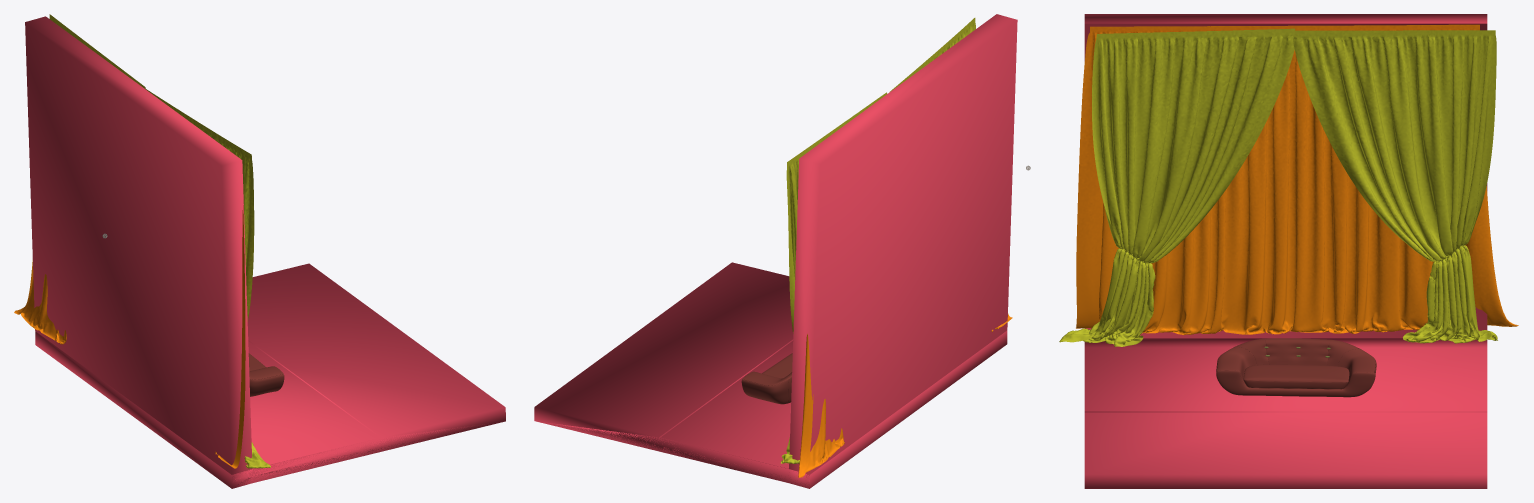
The picture shows the model from 3 angles, left to right: view 1: azimuth 30°, elevation 25°; view 2: azimuth 150°, elevation 25°; view 3: azimuth 270°, elevation 25°; orthographic projection. The views are drawn at different scales.
Visible parts, largest first — view 1: Cube, STORKI, Ritchie_Armchair_RainbowButtons; view 2: Cube, STORKI, Ritchie_Armchair_RainbowButtons; view 3: STORKI, Cube, Ritchie_Armchair_RainbowButtons.
Boxes of the visible parts, x1=… form: Cube: x1=25, y1=16, x2=505, y2=488; STORKI: x1=14, y1=14, x2=270, y2=468; Ritchie_Armchair_RainbowButtons: x1=248, y1=353, x2=284, y2=396; Cube: x1=534, y1=14, x2=1017, y2=488; STORKI: x1=781, y1=18, x2=1012, y2=477; Ritchie_Armchair_RainbowButtons: x1=741, y1=353, x2=792, y2=404; STORKI: x1=1059, y1=24, x2=1518, y2=346; Cube: x1=1084, y1=14, x2=1487, y2=488; Ritchie_Armchair_RainbowButtons: x1=1216, y1=338, x2=1376, y2=397.
Size of the model in its own units: 5.07 by 4.52 by 5.64.
